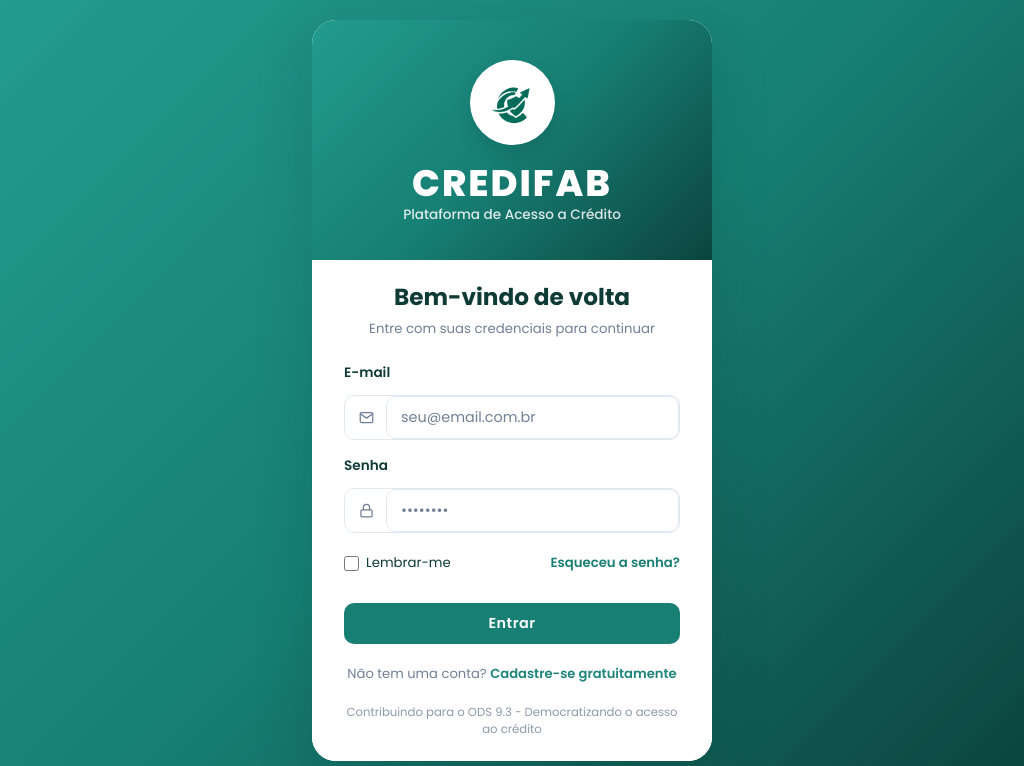
Test case: credenciais invalidas exibem a mensagem de erro vinda da API
Type "teste@email.com" into the field with placeholder "seu@email.com.br" at x=532, y=418, box [386,396,679,440]
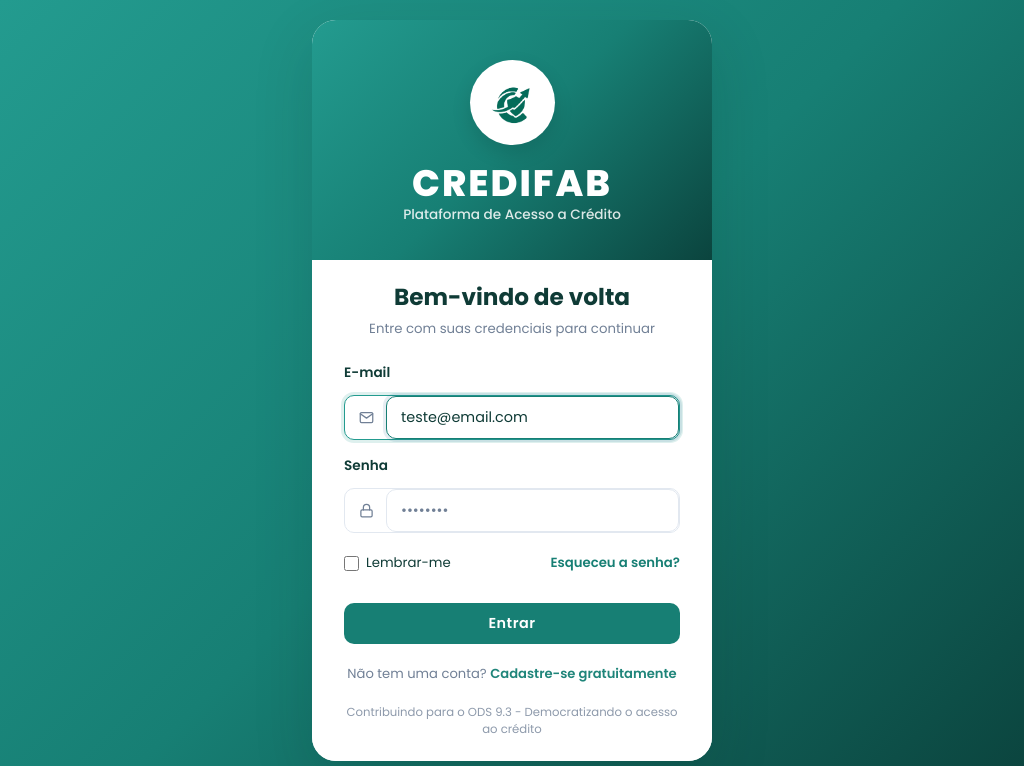
Type "senha-errada" into the password field with placeholder "••••••••" at x=532, y=511, box [386,490,679,532]
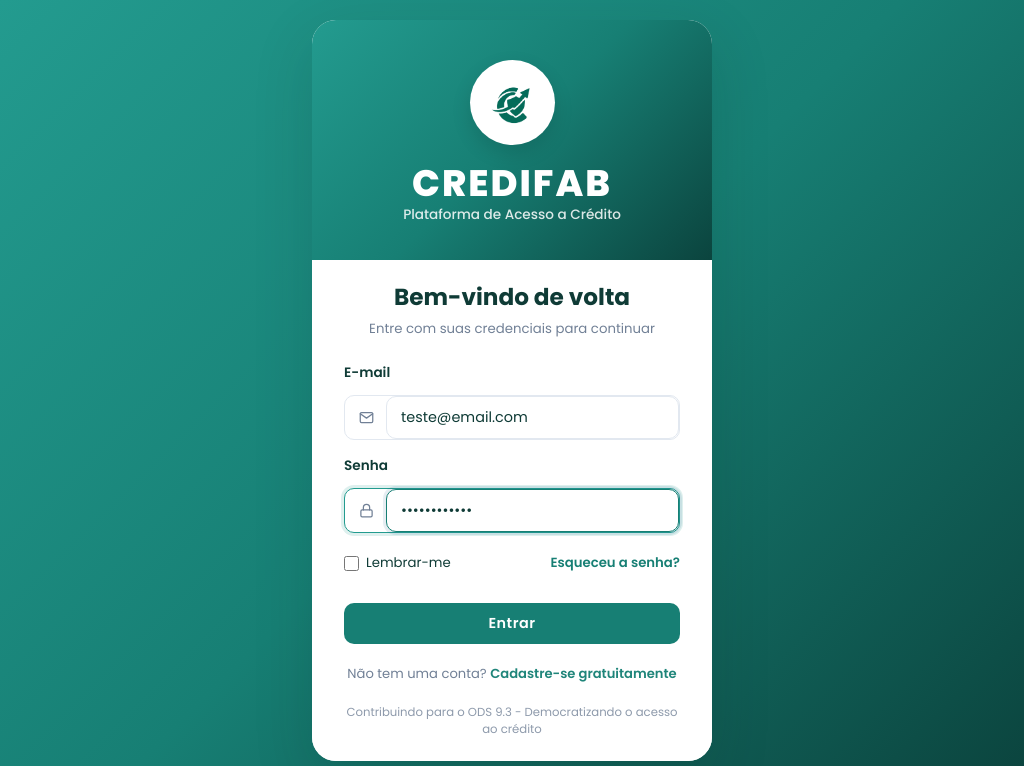
Click the button "Entrar" at x=512, y=624, box [344,604,680,644]
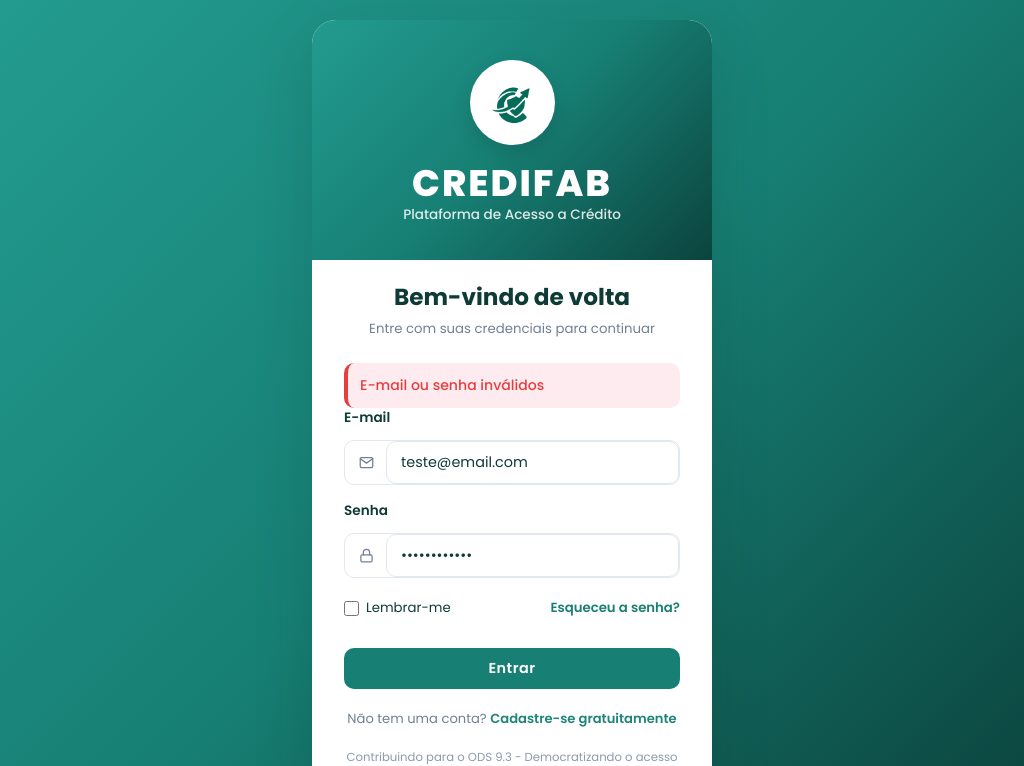
Check: the text "E-mail ou senha inválidos" is shown, box [344,364,680,408]
